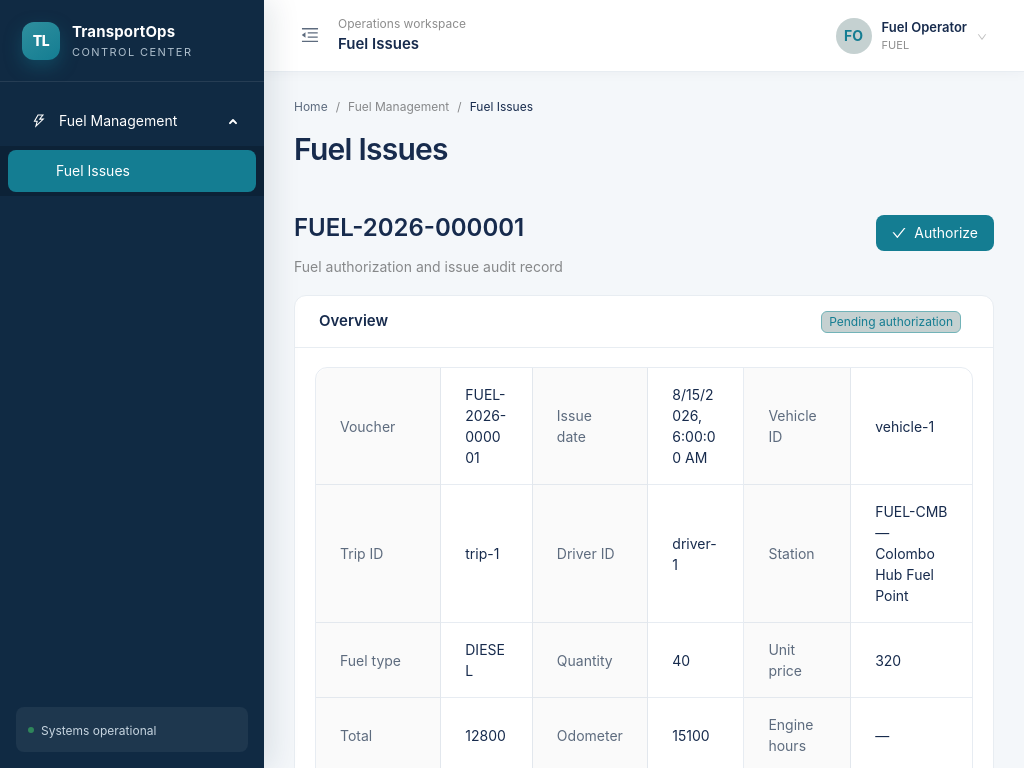
Test case: Fuel Issue MVP pages › shows backend business rejection without mutating client-side eligibility
The width and height of the screenshot is (1024, 768).
Click the button "Authorize" at (935, 232), box [876,214,994,250]
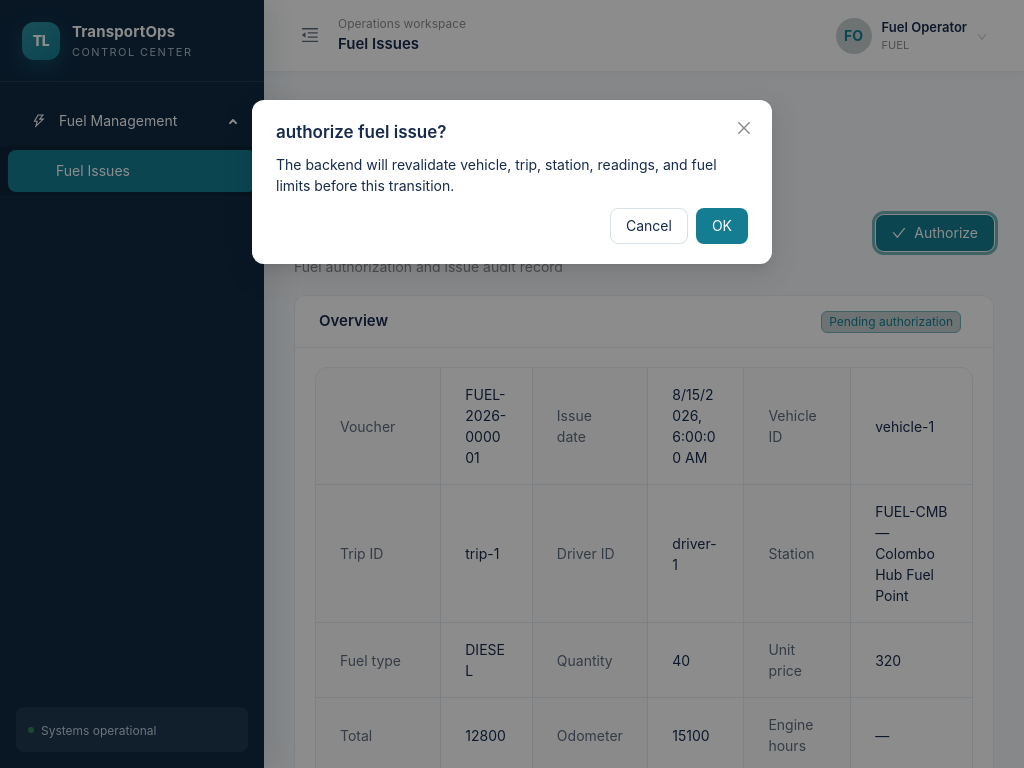
Click the button "OK" at (722, 226), box [696,208,748,244]
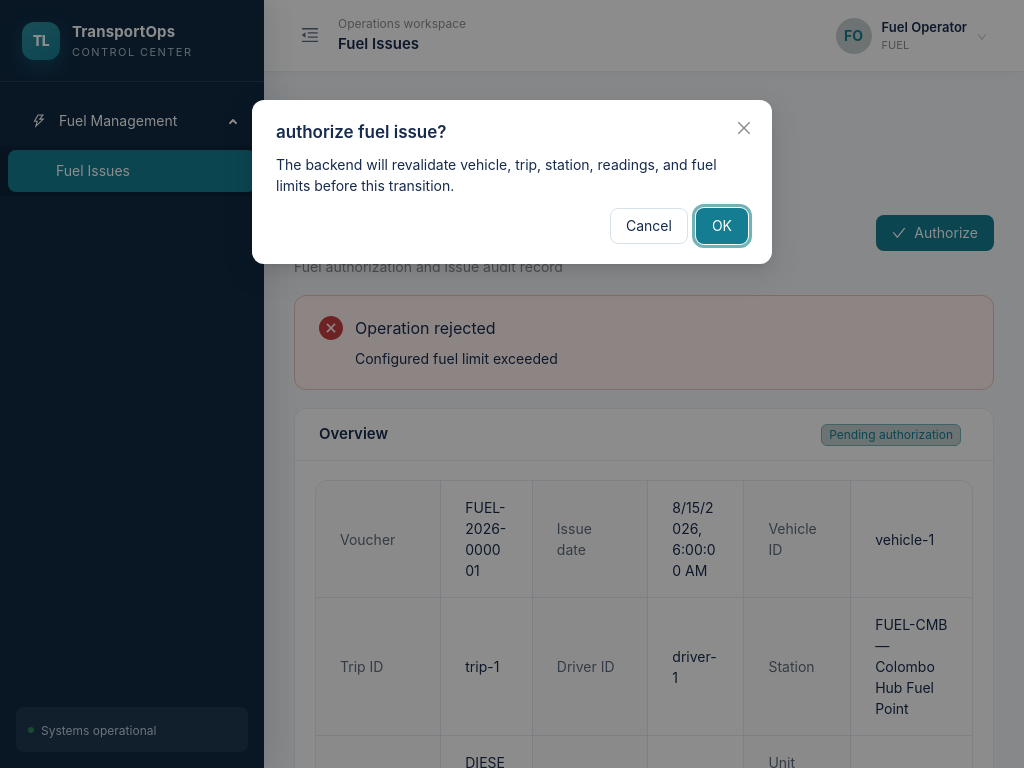
Now the text "Configured fuel limit exceeded" is shown, box [355,350,558,367]
